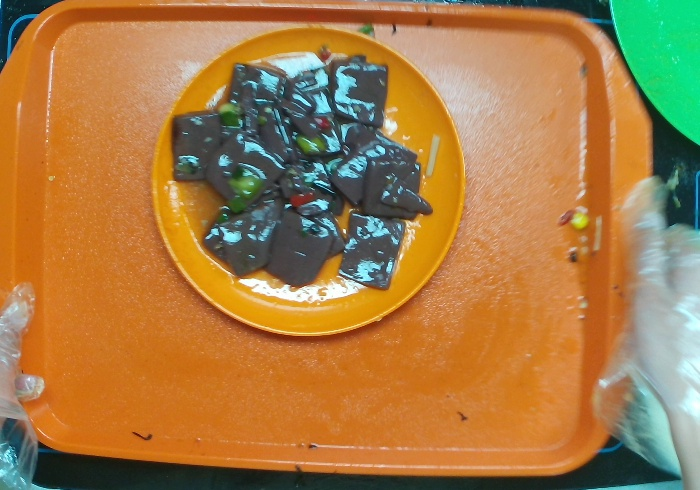HZYJPL-Ju_Huang_Yuan_Pan: (143, 17, 468, 340)
